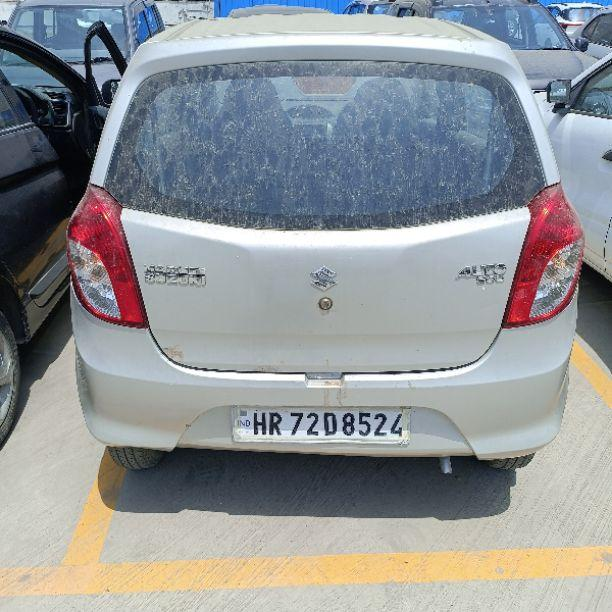license_plate: (230, 404, 411, 445)
